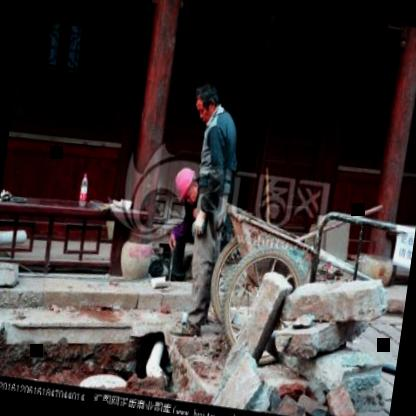head: (186, 76, 224, 126)
helmet: (170, 164, 202, 212)
